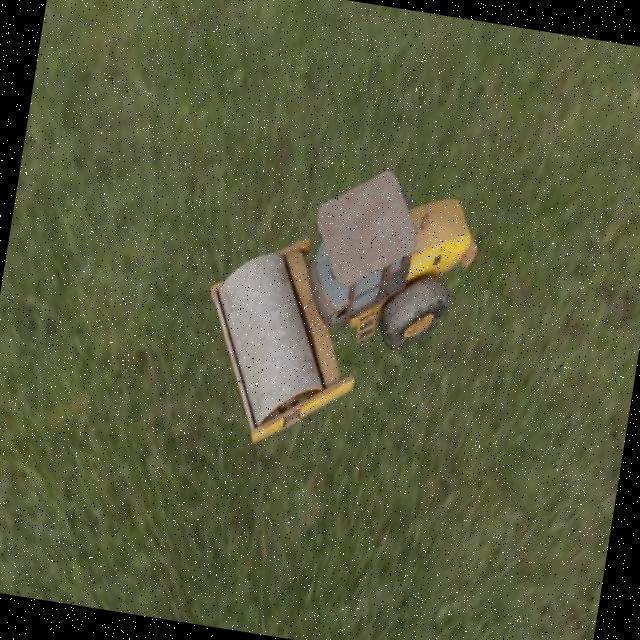Roller: (187, 145, 487, 472)
